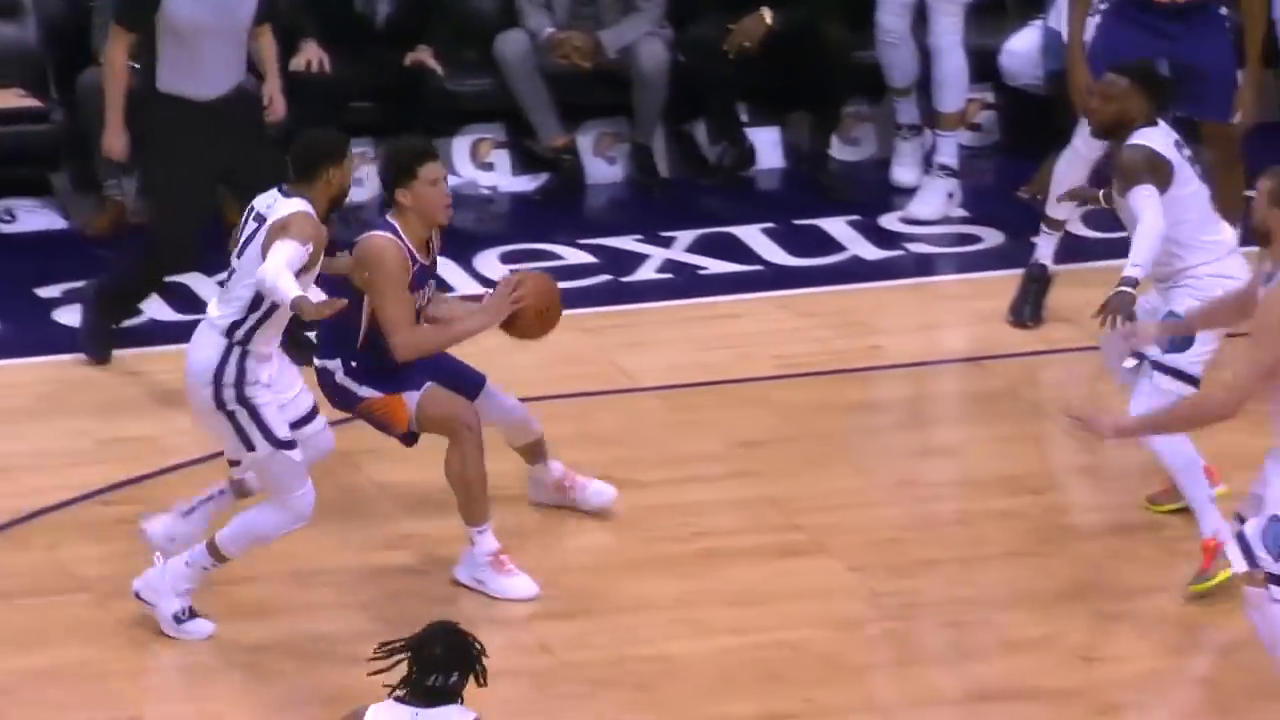ball: (503, 265, 564, 341)
